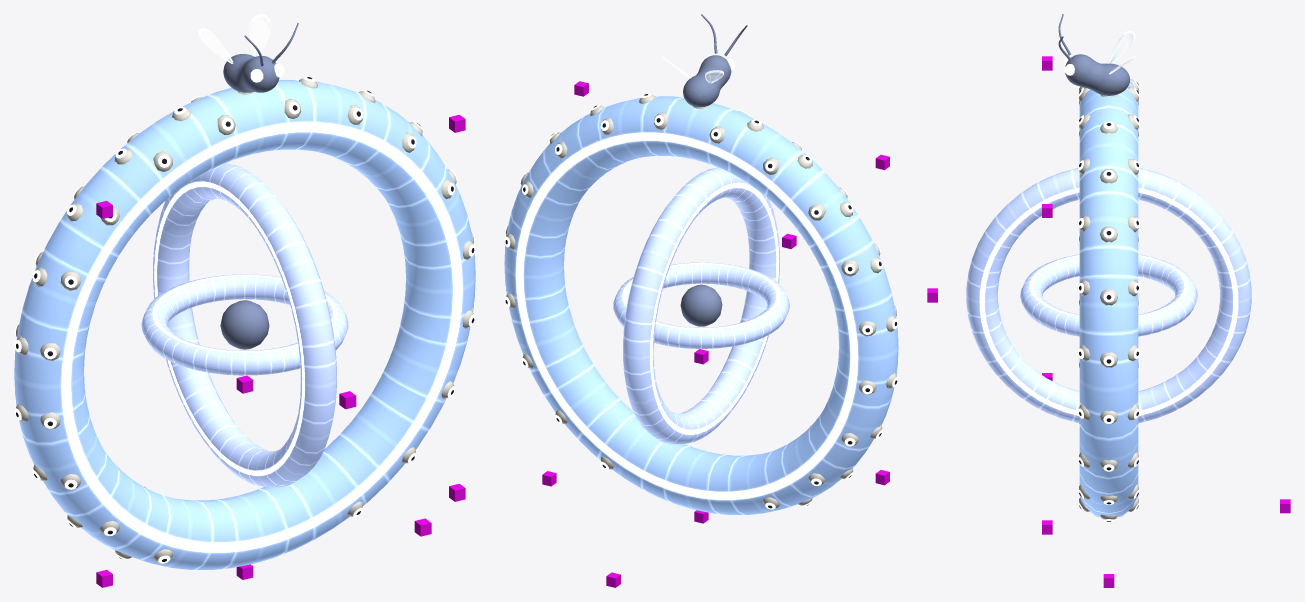
Rendered from 03_ruotina_ofanim.glb.
The picture shows the model from 3 angles, left to right: view 1: azimuth 30°, elevation 25°; view 2: azimuth 150°, elevation 25°; view 3: azimuth 270°, elevation 25°; orthographic projection. The views are drawn at different scales.
Visible parts, largest first — view 1: Ofanim__Anello_Cristallo, Ofanim__Anello_Interno, Ofanim__Occhi_Bianco, Ofanim__Chitina, Ofanim__Iridi_Oro, Ofanim__Alucce; view 2: Ofanim__Anello_Cristallo, Ofanim__Anello_Interno, Ofanim__Occhi_Bianco, Ofanim__Chitina, Ofanim__Iridi_Oro; view 3: Ofanim__Anello_Interno, Ofanim__Anello_Cristallo, Ofanim__Occhi_Bianco, Ofanim__Chitina, Ofanim__Iridi_Oro, Ofanim__Alucce.
Part boxes in pixels (bbox=[...]): Ofanim__Anello_Cristallo: bbox=[14, 80, 475, 569]; Ofanim__Anello_Interno: bbox=[141, 163, 348, 487]; Ofanim__Occhi_Bianco: bbox=[16, 78, 473, 562]; Ofanim__Chitina: bbox=[220, 23, 298, 349]; Ofanim__Iridi_Oro: bbox=[14, 63, 475, 563]; Ofanim__Alucce: bbox=[198, 14, 271, 63]; Ofanim__Anello_Cristallo: bbox=[504, 96, 898, 514]; Ofanim__Anello_Interno: bbox=[613, 167, 789, 444]; Ofanim__Occhi_Bianco: bbox=[505, 95, 897, 508]; Ofanim__Chitina: bbox=[680, 14, 747, 326]; Ofanim__Iridi_Oro: bbox=[504, 54, 898, 509]; Ofanim__Anello_Interno: bbox=[966, 168, 1251, 422]; Ofanim__Anello_Cristallo: bbox=[1079, 81, 1138, 517]; Ofanim__Occhi_Bianco: bbox=[1079, 79, 1138, 519]; Ofanim__Chitina: bbox=[1058, 14, 1129, 95]; Ofanim__Iridi_Oro: bbox=[1064, 55, 1139, 521]; Ofanim__Alucce: bbox=[1109, 30, 1135, 74].
Size of the model in its own units: 3.84 by 4.56 by 3.09.
Materials: 8 (3 with a texture image).
